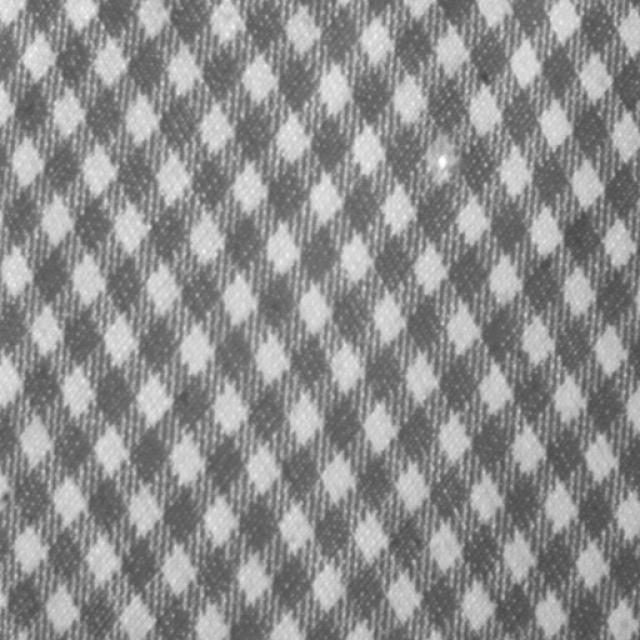Hole-Defect: (428, 141, 456, 181)
